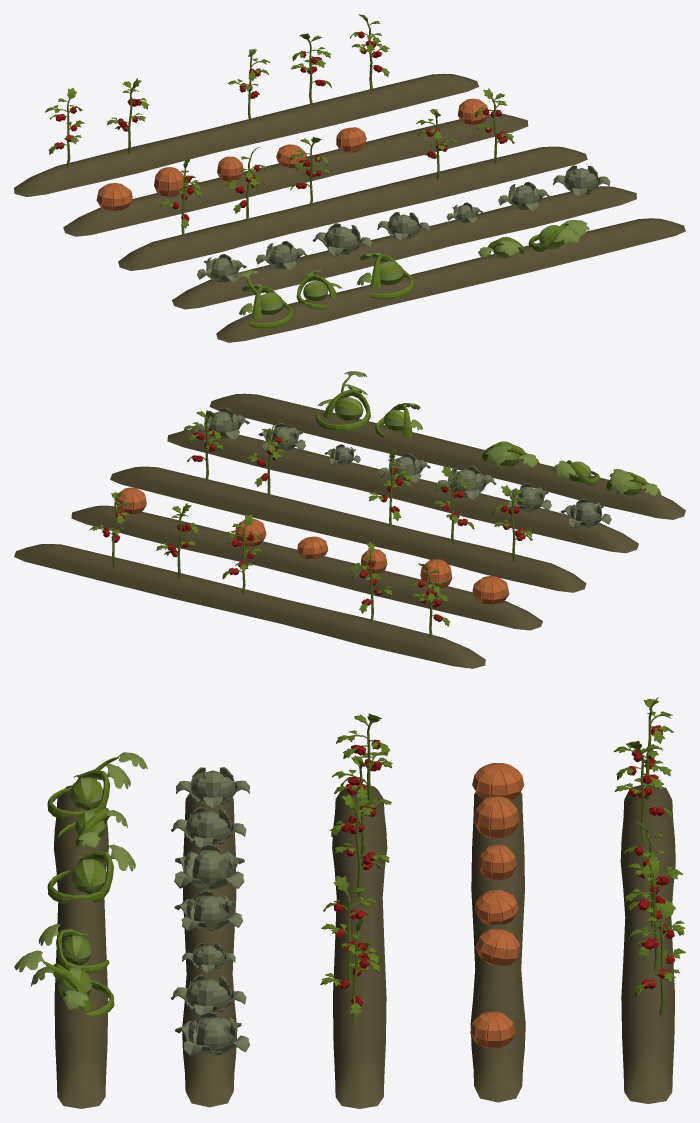
Rendered from crops.glb.
3 renders of one model, top to bottom at view 1: azimuth 30°, elevation 25°; view 2: azimuth 150°, elevation 25°; view 3: azimuth 270°, elevation 25°, orthographic. The views are drawn at different scales.
Parts seen in each view (by area): view 1: Farm_Dirt_Level3; view 2: Farm_Dirt_Level3; view 3: Farm_Dirt_Level3.
Boxes of the visible parts, x1=… form: Farm_Dirt_Level3: x1=14, y1=14, x2=685, y2=342; Farm_Dirt_Level3: x1=14, y1=371, x2=685, y2=668; Farm_Dirt_Level3: x1=14, y1=697, x2=685, y2=1108.
Bounding box in the file's own units: 1.79 × 0.3227 × 1.56.
1 material, 1 textured.
